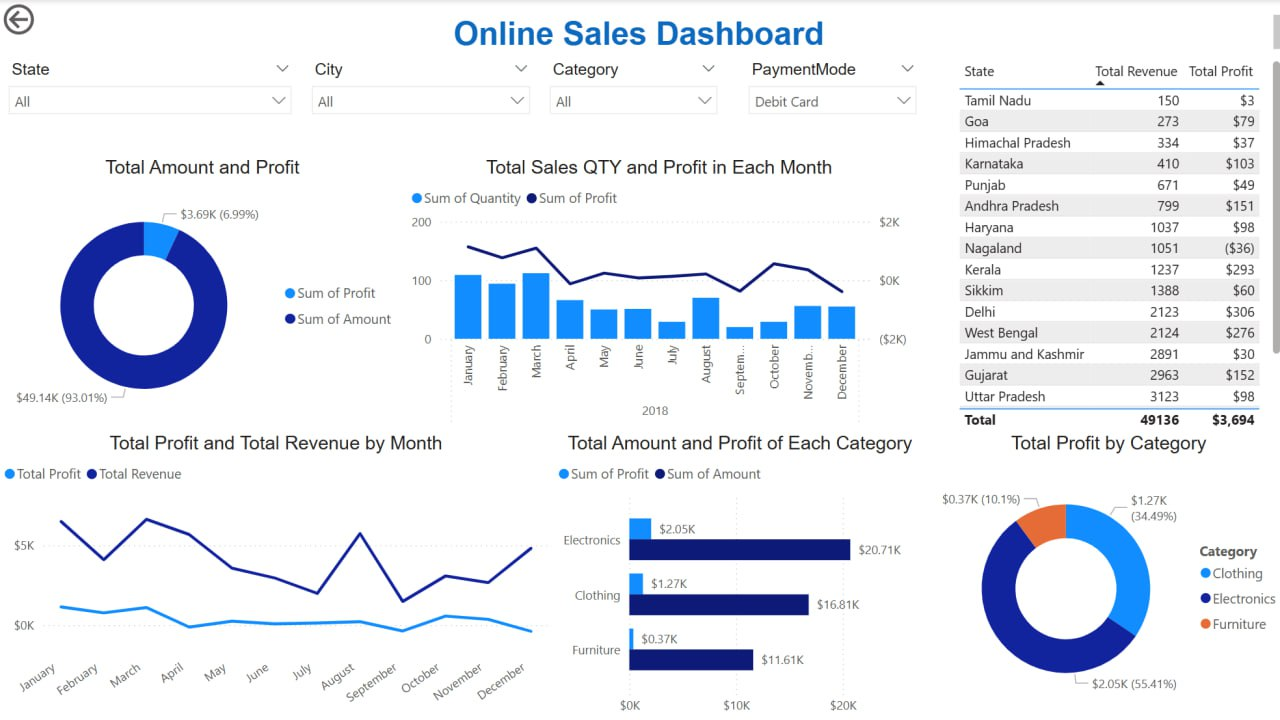

The page's visual inventory and layout, read from the dashboard file:
{"tool":"powerbi","page":{"name":"Amount(Revenue) & Profit","canvas":[1280,720],"ordinal":1},"visuals":[{"type":"clusteredBarChart","title":"Total Amount and Profit of Each Category","fields":{"Y":["Sum(Details.Profit)","Sum(Details.Amount)"],"Category":["Details.Category"]},"box":[551.2,431.1,371.8,289.6],"z":0},{"type":"lineStackedColumnComboChart","title":"Total Sales QTY and Profit in Each Month","fields":{"Category":["Orders.Parsed Order Date.Variation.Date Hierarchy.Year","Orders.Parsed Order Date.Variation.Date Hierarchy.Month"],"Y":["Sum(Details.Quantity)"],"Y2":["Sum(Details.Profit)"]},"box":[404.7,156.3,503.4,274.8],"z":1000},{"type":"donutChart","title":"Total Amount and Profit","fields":{"Y":["Sum(Details.Profit)","Sum(Details.Amount)"]},"box":[0,156.3,404.7,274.8],"z":2000},{"type":"slicer","fields":{"Values":["Details.Category"]},"box":[538.4,56.1,186.5,72.8],"z":3000},{"type":"textbox","box":[0,10,1280,45.4],"z":4000},{"type":"areaChart","fields":{"Y":["Details.Total Profit","Details.Total Revenue"],"Category":["Orders.Parsed Order Date.Variation.Date Hierarchy.Month"]},"box":[0,431.1,551.2,291.2],"z":5000},{"type":"donutChart","fields":{"Y":["Details.Total Profit"],"Series":["Details.Category"]},"box":[923,431.1,360.3,289.6],"z":6000},{"type":"tableEx","fields":{"Values":["Orders.State","Details.Total Revenue","Details.Total Profit"]},"box":[949.3,55.9,330.7,376.8],"z":7000},{"type":"slicer","fields":{"Values":["Orders.State"]},"box":[0,55.9,301.1,72.4],"z":8000},{"type":"slicer","fields":{"Values":["Orders.City"]},"box":[301.1,55.9,236.9,72.4],"z":9000},{"type":"actionButton","box":[0,0,100,40],"z":10000},{"type":"slicer","fields":{"Values":["Details.PaymentMode"]},"box":[735.5,56.1,186.5,72.8],"z":10001}]}

Visuals, with their boxes in screenshot pixels (x1, y1, x2, y2), scaled from the page's 1280x720 canvas onto the 1280x720 screenshot:
"Total Amount and Profit of Each Category" clusteredBarChart: bbox=(551, 431, 923, 719)
"Total Sales QTY and Profit in Each Month" lineStackedColumnComboChart: bbox=(405, 156, 908, 431)
"Total Amount and Profit" donutChart: bbox=(0, 156, 405, 431)
slicer - Details.Category: bbox=(538, 56, 725, 129)
textbox: bbox=(0, 10, 1279, 55)
areaChart - Details.Total Profit x Details.Total Revenue: bbox=(0, 431, 551, 719)
donutChart - Details.Total Profit x Details.Category: bbox=(923, 431, 1279, 719)
tableEx - Orders.State x Details.Total Revenue: bbox=(949, 56, 1279, 433)
slicer - Orders.State: bbox=(0, 56, 301, 128)
slicer - Orders.City: bbox=(301, 56, 538, 128)
actionButton: bbox=(0, 0, 100, 40)
slicer - Details.PaymentMode: bbox=(736, 56, 922, 129)
